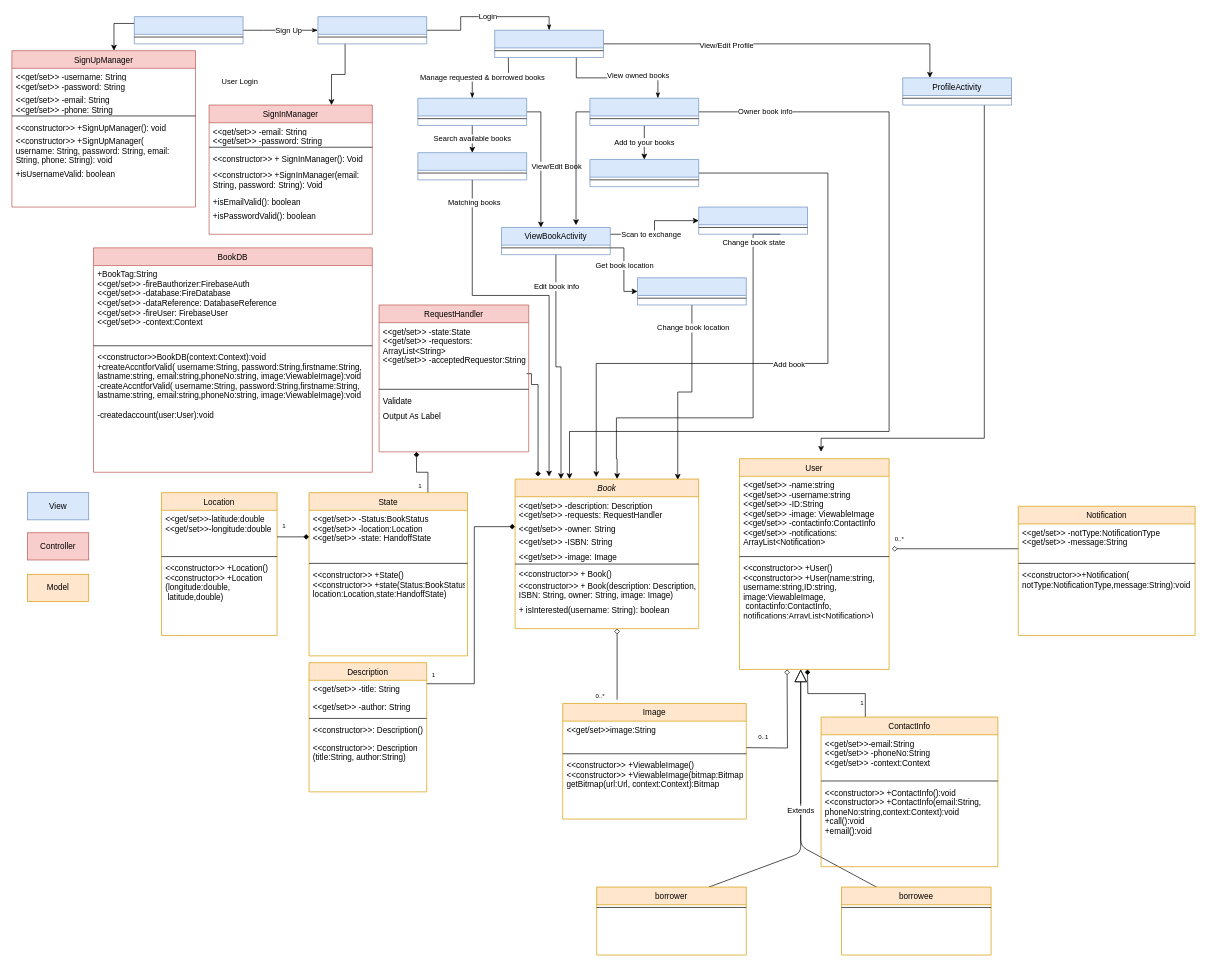
The diagram is 1207 pixels wide and 967 high, and some of its shapes have lost their labels. Here are the shapes that lost their labels. From the top down, the centre of each, then its label:
(x=188, y=30): SignUpActivity
(x=372, y=30): SignInActivity
(x=549, y=43): HomeActivity
(x=472, y=111): BorrowerActivity
(x=644, y=111): OwnerActivity
(x=472, y=166): SearchActivity
(x=644, y=173): AddBookActivity
(x=753, y=220): ScannerActivity
(x=691, y=291): LocationActivity
